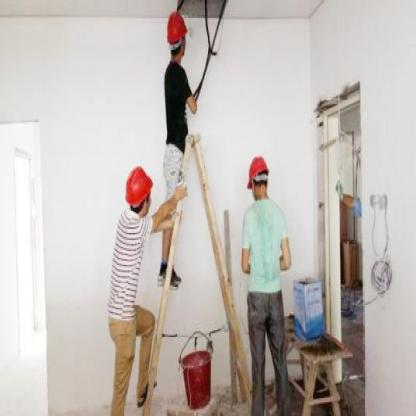helmet: (125, 162, 153, 220), (165, 5, 189, 70), (246, 153, 271, 205)
